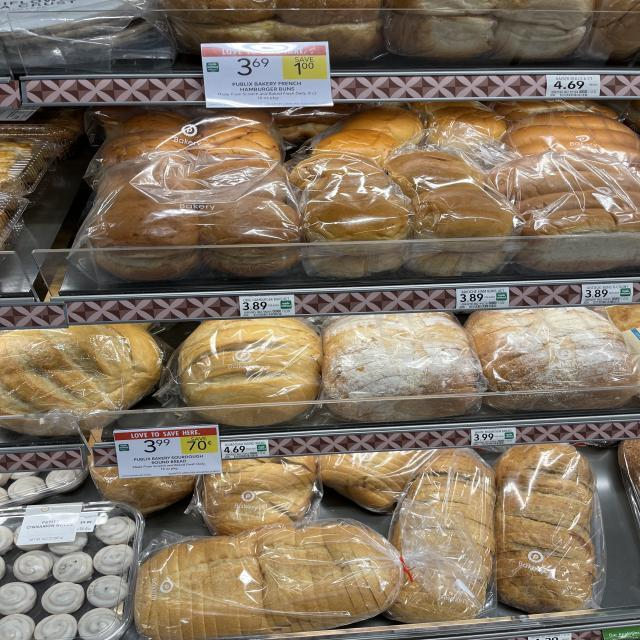Bread: (135, 519, 403, 640), (78, 151, 300, 280), (0, 501, 145, 640), (387, 449, 497, 622), (495, 444, 605, 612), (0, 324, 165, 436), (465, 306, 638, 410), (322, 312, 487, 421), (497, 150, 640, 271), (385, 151, 523, 276), (290, 152, 412, 278), (155, 318, 323, 408), (162, 0, 383, 61), (385, 0, 593, 61), (98, 108, 282, 168), (185, 456, 323, 535), (503, 111, 640, 165), (318, 450, 432, 512), (312, 108, 423, 162), (90, 466, 197, 515), (575, 0, 640, 61), (0, 469, 88, 506), (195, 404, 310, 426)
